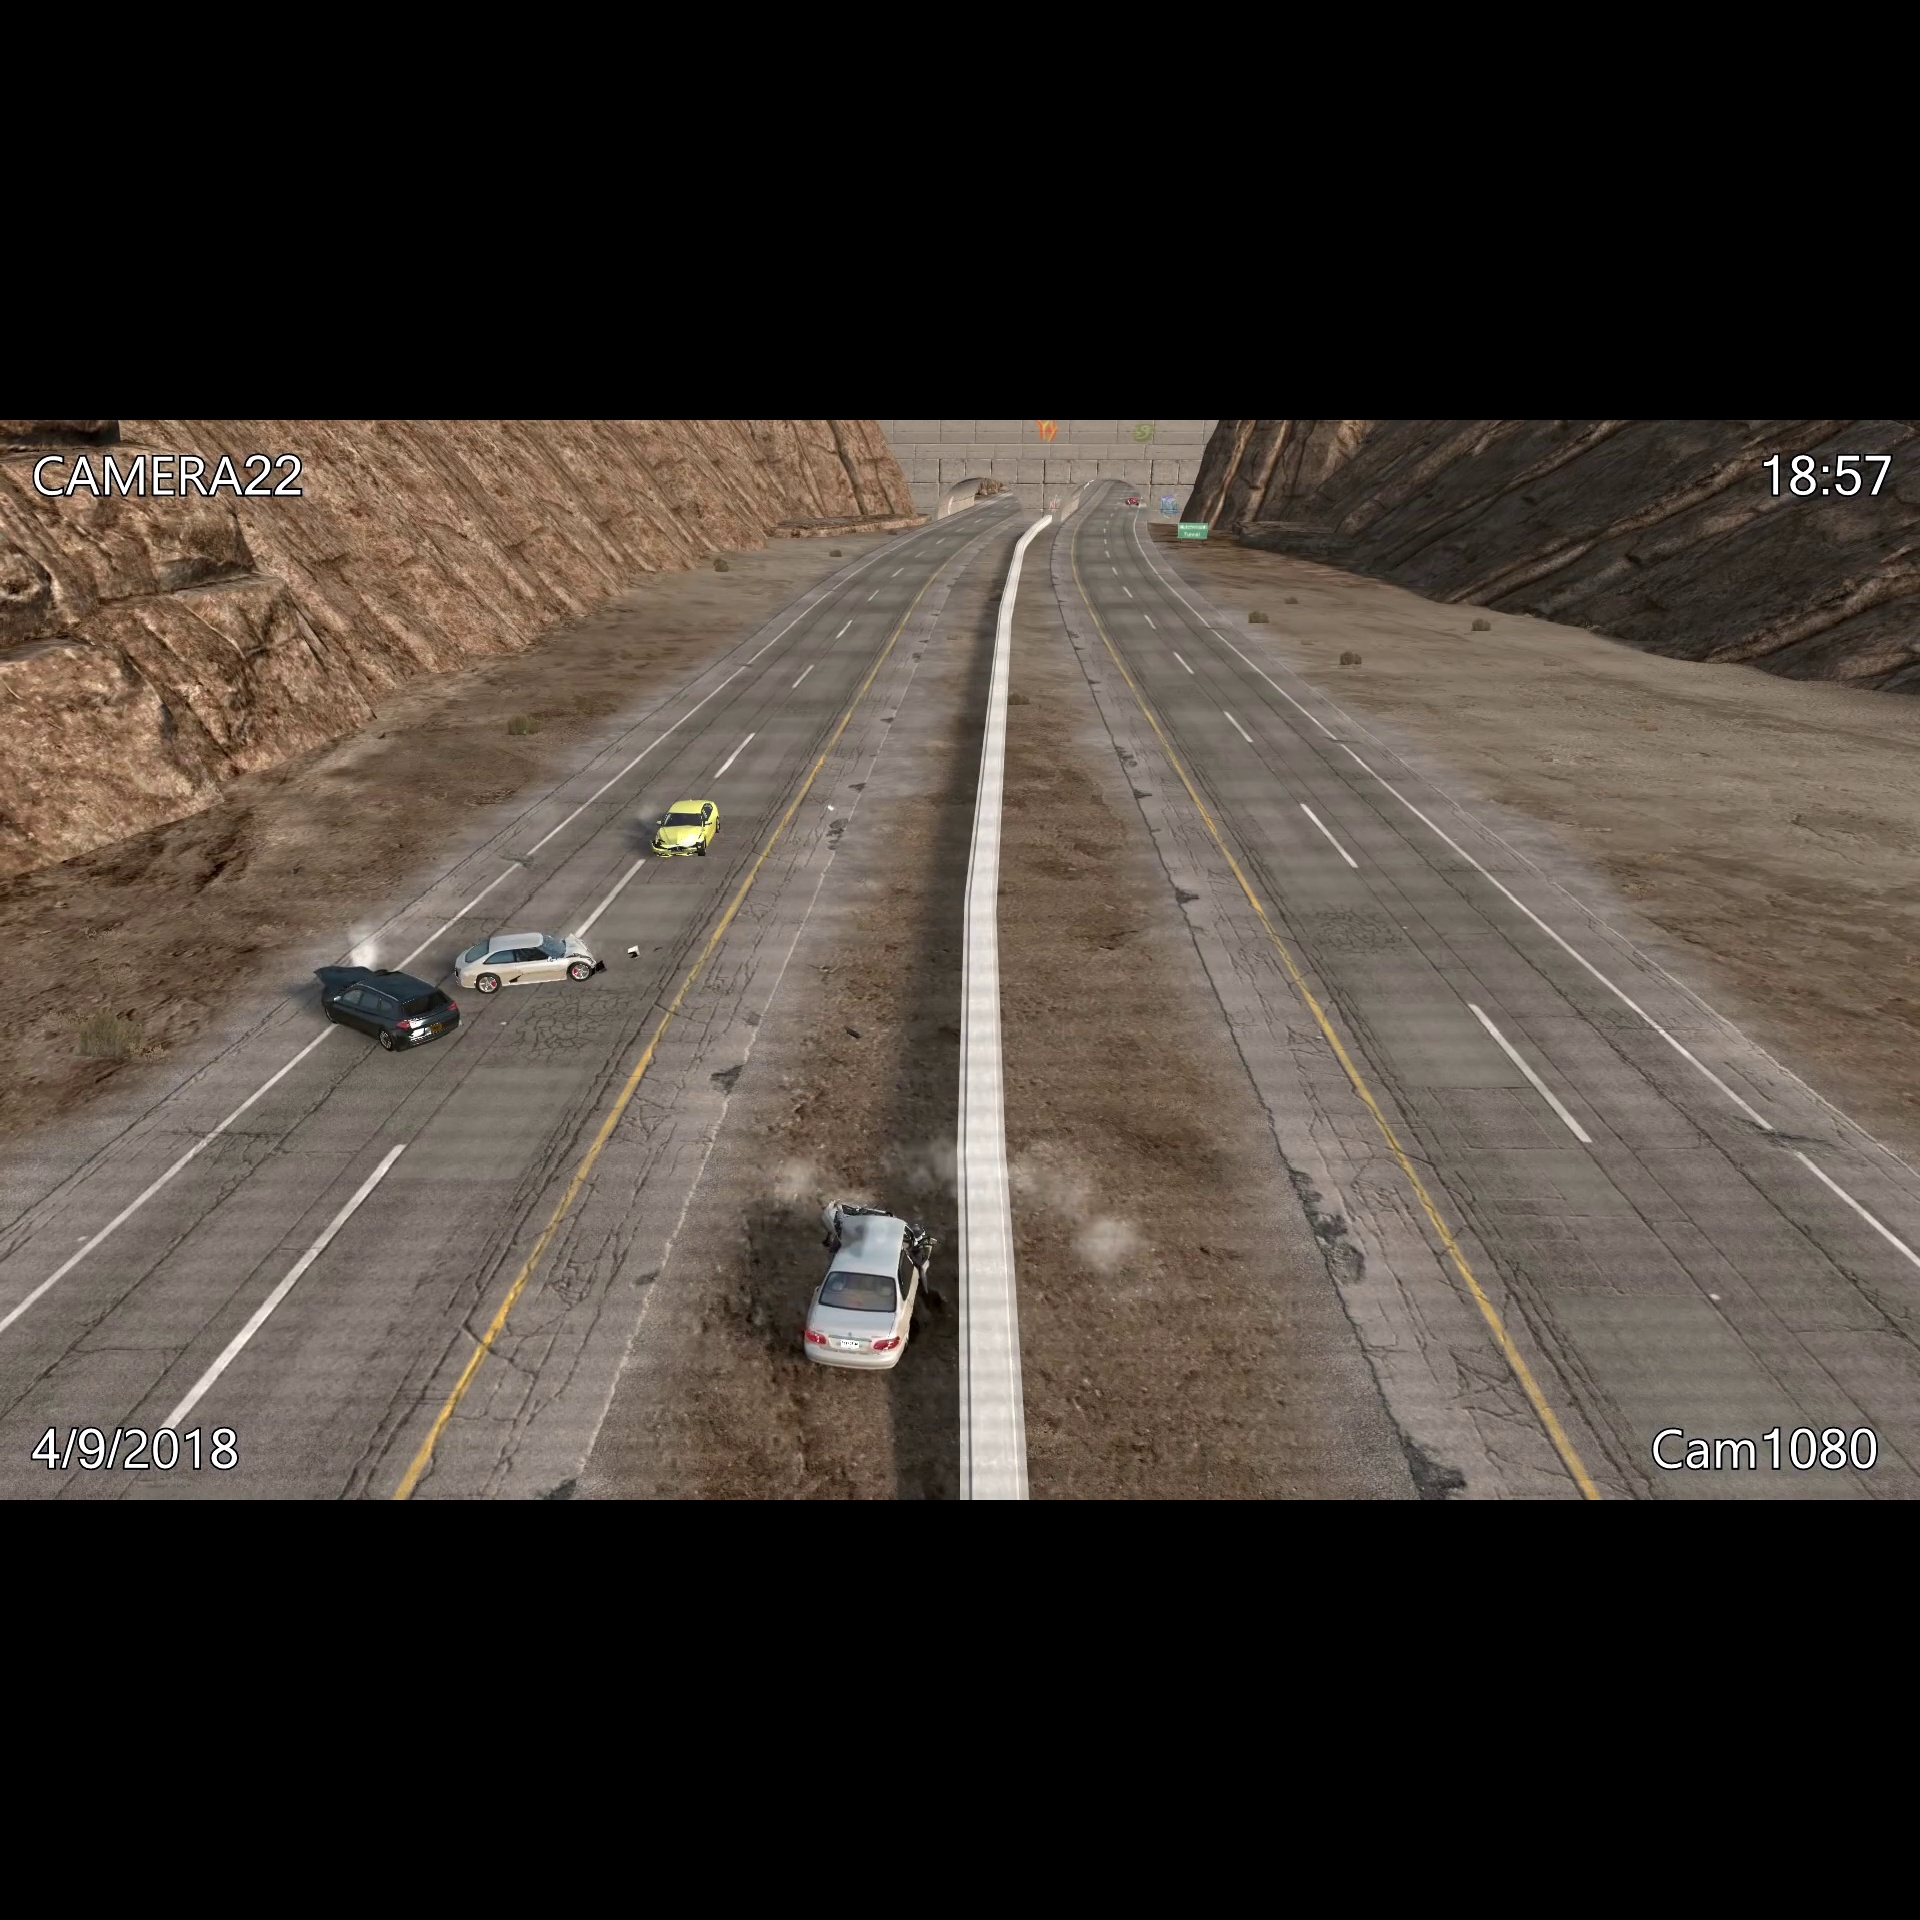vehicle: (788, 1180, 941, 1384), (304, 960, 471, 1058), (448, 920, 615, 999), (647, 791, 726, 869)
